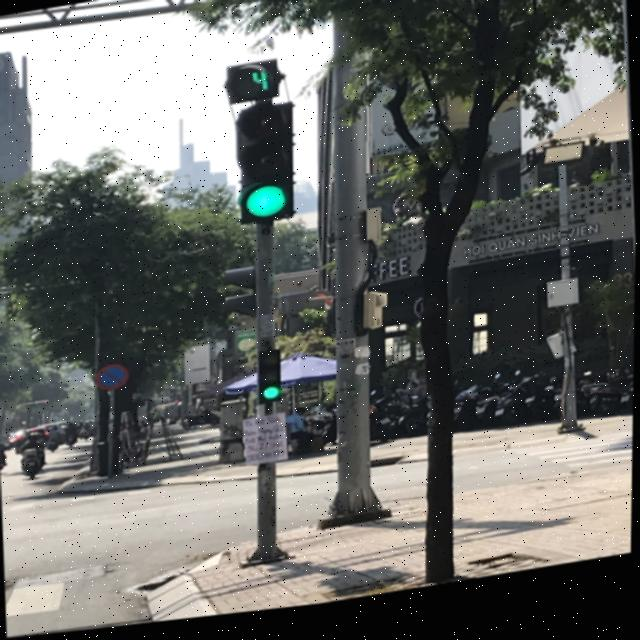Green: (228, 105, 307, 236), (246, 344, 289, 415)
